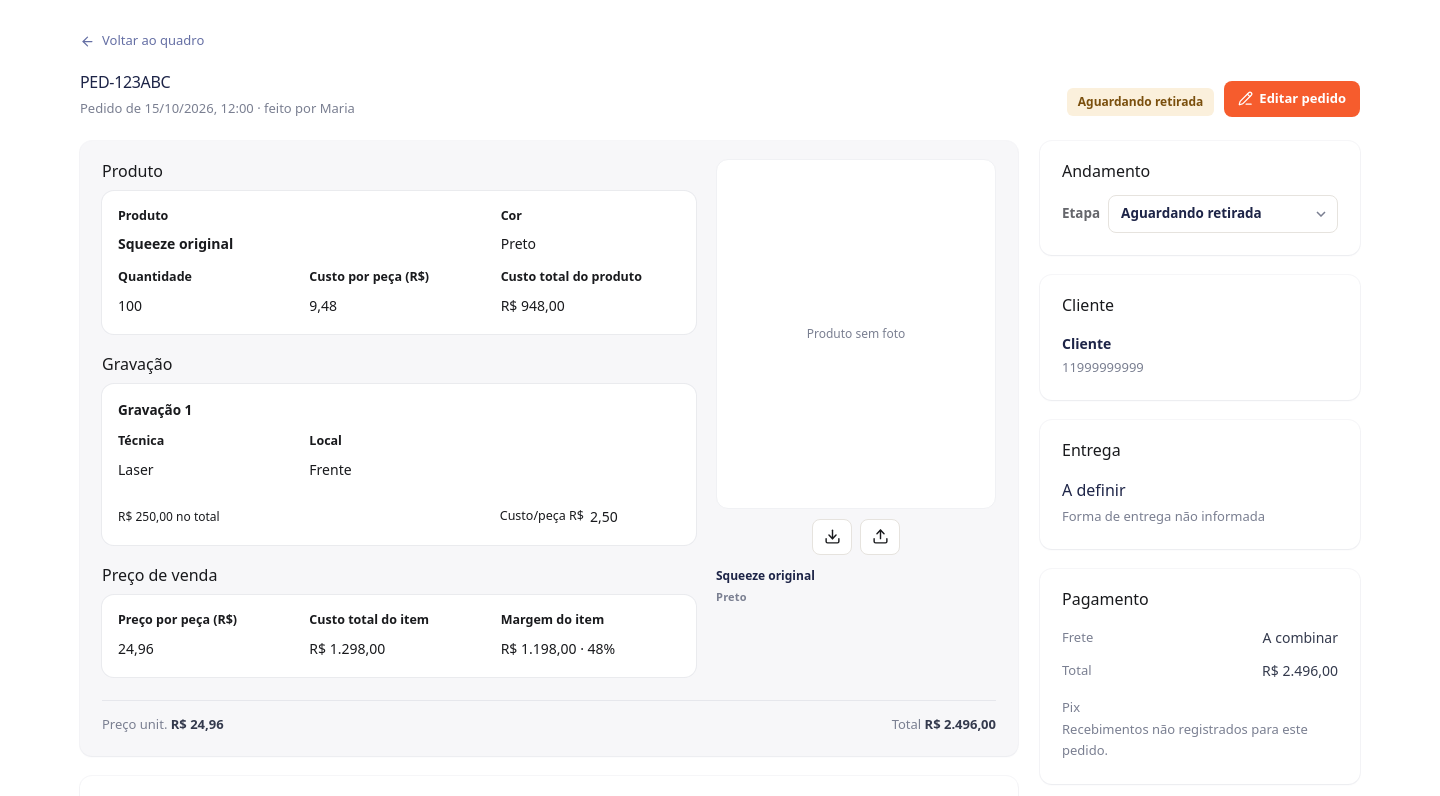
consulta completa com snapshot do editor › volta etapa e exibe erro da API sem inventar sucesso
Select "Em produção" in the dropdown labelled "Etapa" at (1223, 214), box [1108,194,1338,232]
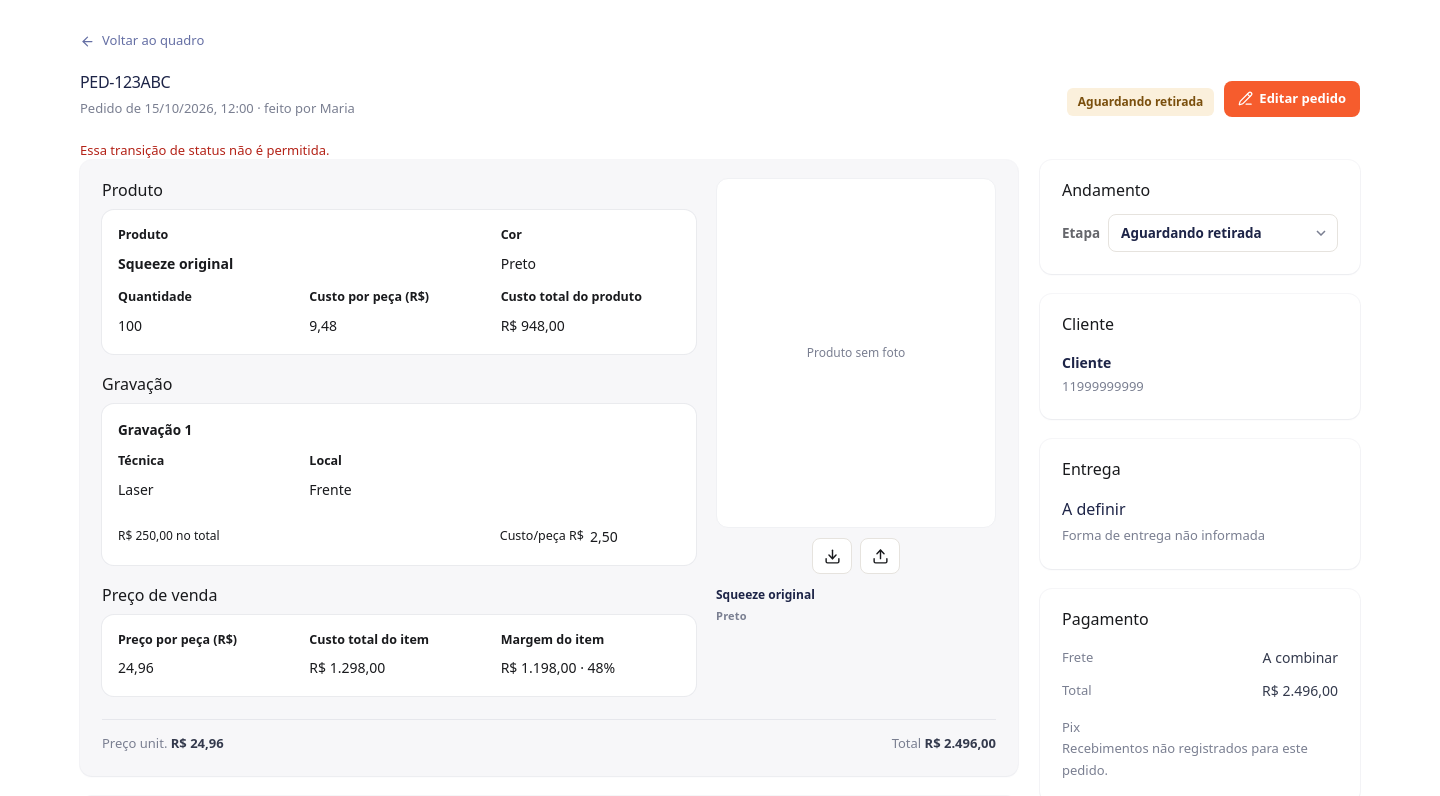
Result: the message reads "Essa transição de status não é permitida." at [80,140,329,158]
